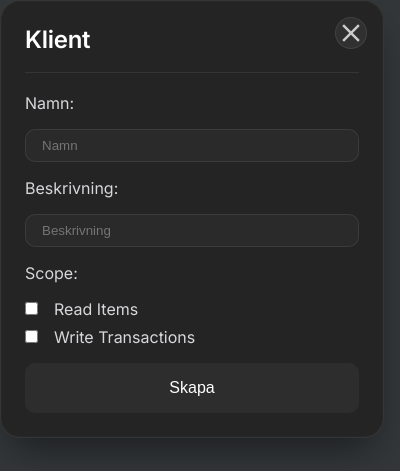
Test: AddClientPopup › scopes › checks and unchecks a scope when its label is clicked
Click the text "read items": click(96, 309) [54,299,138,319]
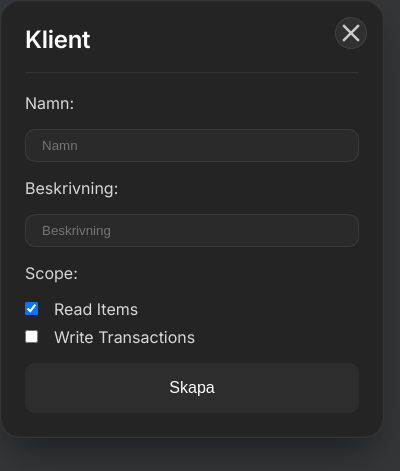
Expected: the checkbox next to "write transactions" is not checked, [25,330,38,343]
Expected: the checkbox next to "read items" is checked, [25,302,38,315]
Click the text "read items": click(96, 309) [54,299,138,319]
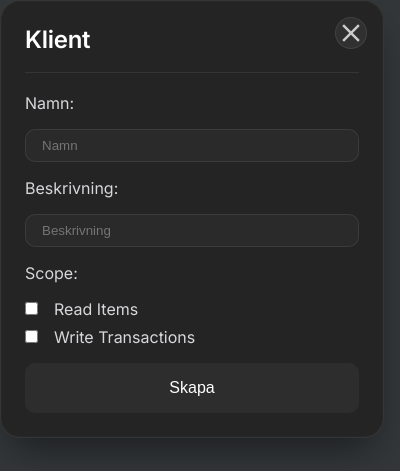
Expected: the checkbox next to "read items" is not checked, [25,302,38,315]
